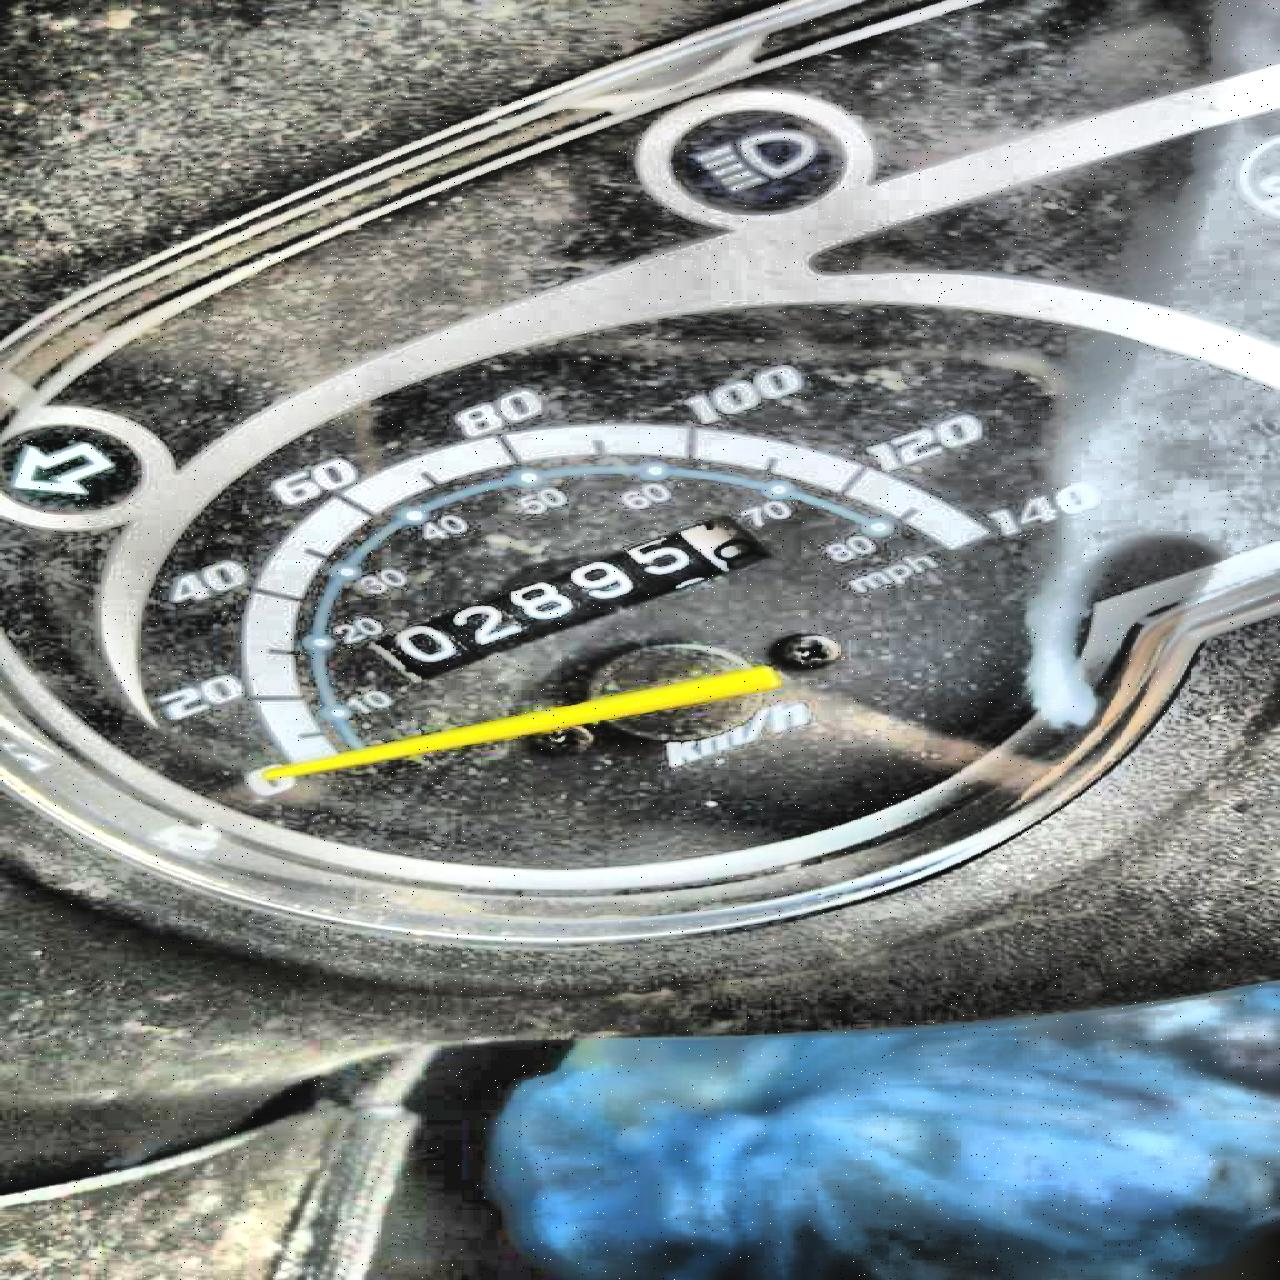0: (389, 622, 454, 662), (375, 566, 404, 586), (354, 615, 382, 635), (437, 513, 464, 532)
2: (449, 602, 518, 644)
3: (354, 576, 384, 594)
4: (420, 520, 444, 539)
5: (622, 535, 692, 576)
7: (735, 510, 764, 526)
8: (506, 579, 571, 620), (707, 533, 767, 571)
9: (568, 559, 633, 599)
odometer: (352, 509, 776, 686)
